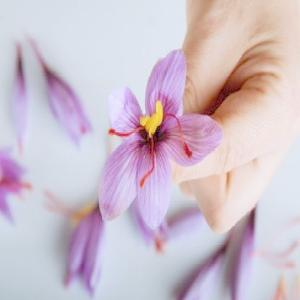Saffron: (94, 53, 220, 228), (62, 186, 130, 276), (36, 48, 92, 142)
